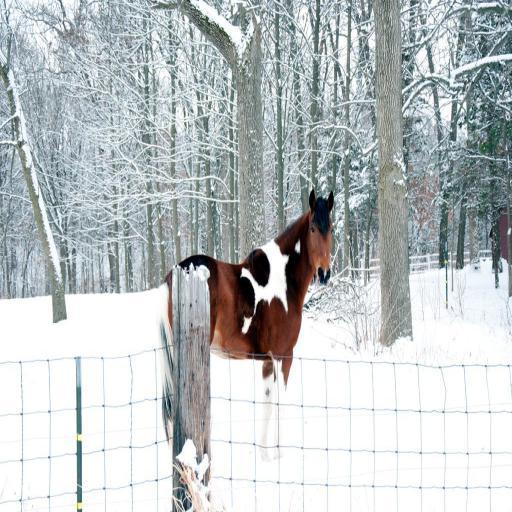horse: (155, 188, 335, 460)
